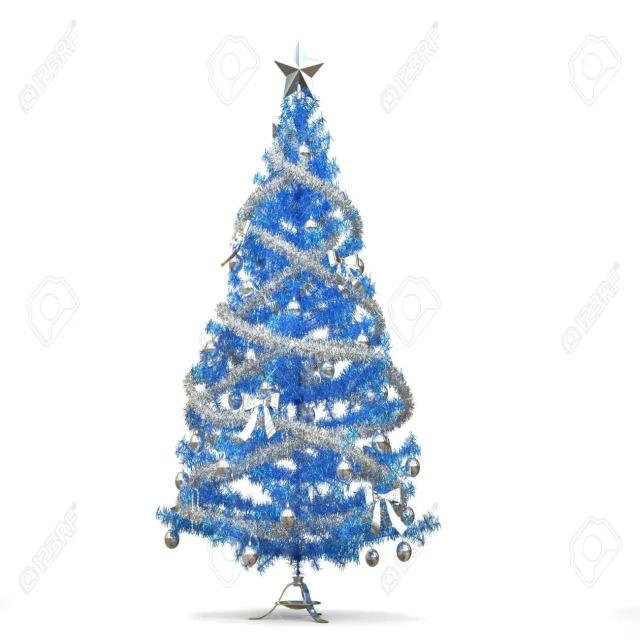Christmas-tree: (135, 25, 453, 581)
